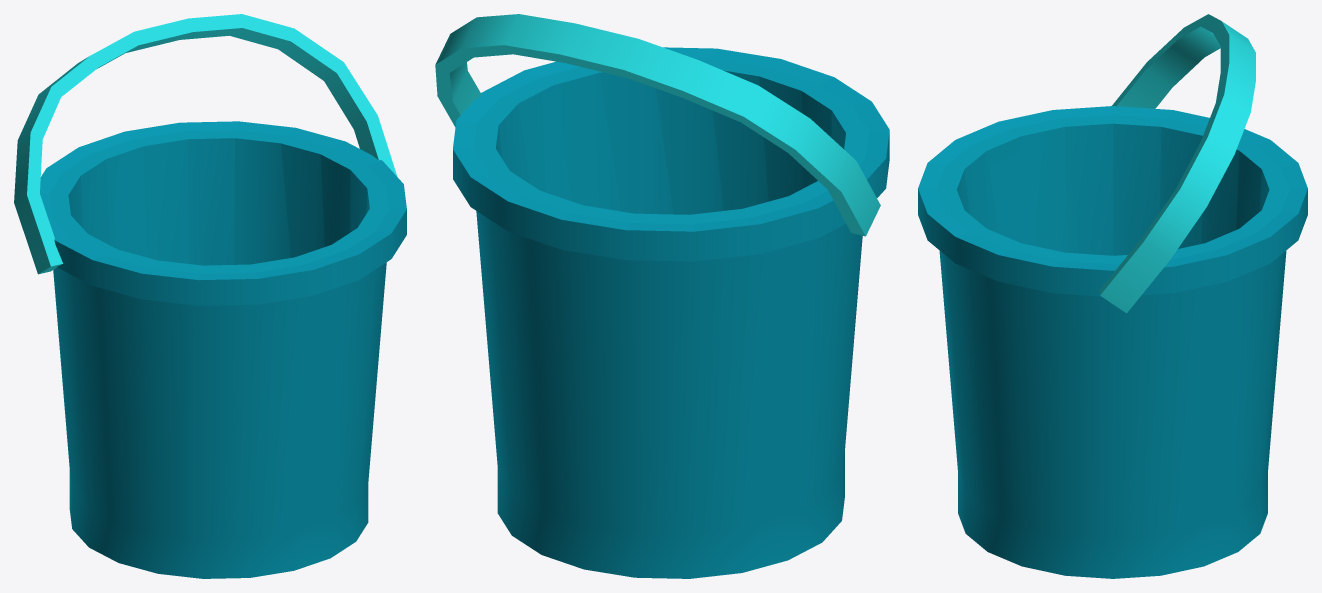
File: Bucket.fbx
3 views of the same model, side by side, from view 1: azimuth 30°, elevation 25°; view 2: azimuth 150°, elevation 25°; view 3: azimuth 270°, elevation 25° (orthographic). The views are drawn at different scales.
Visible parts, largest first — view 1: pCube3; view 2: pCube3; view 3: pCube3.
Part boxes in pixels (box(x1,y1,x2,y2)): pCube3: box(14, 14, 406, 578); pCube3: box(435, 14, 889, 578); pCube3: box(918, 14, 1307, 578).
Bounding box in the file's own units: 0.5229 × 0.6431 × 0.4897.
